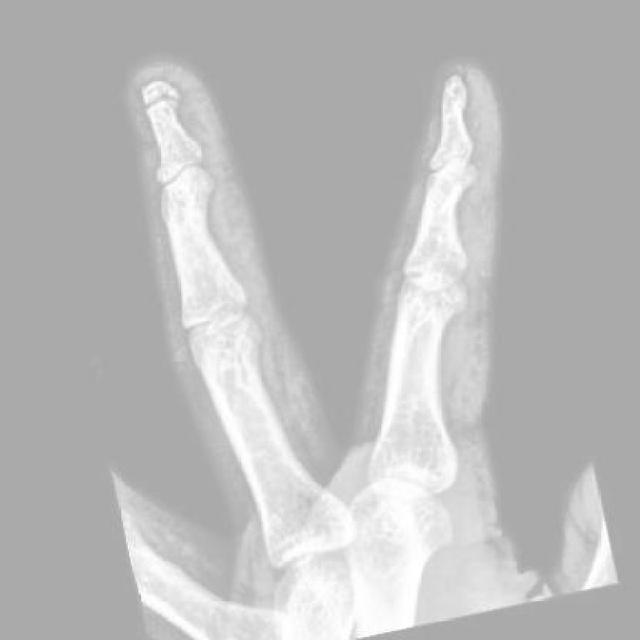Fracture: (133, 74, 182, 119)
